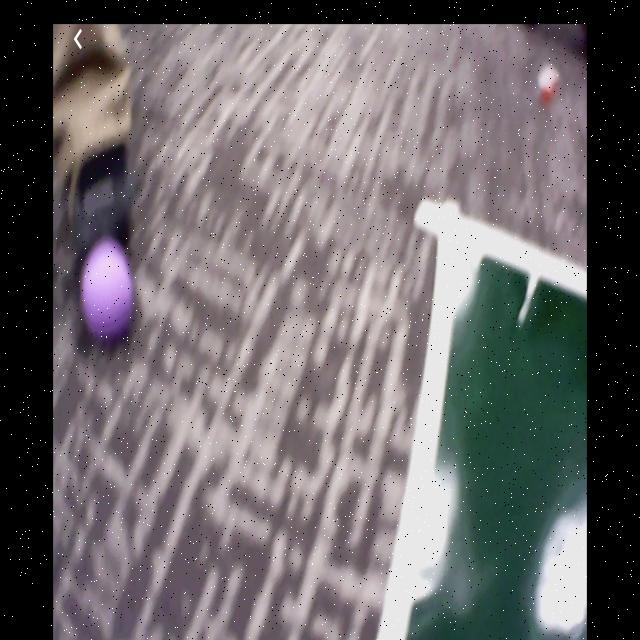ball: (82, 241, 136, 336)
